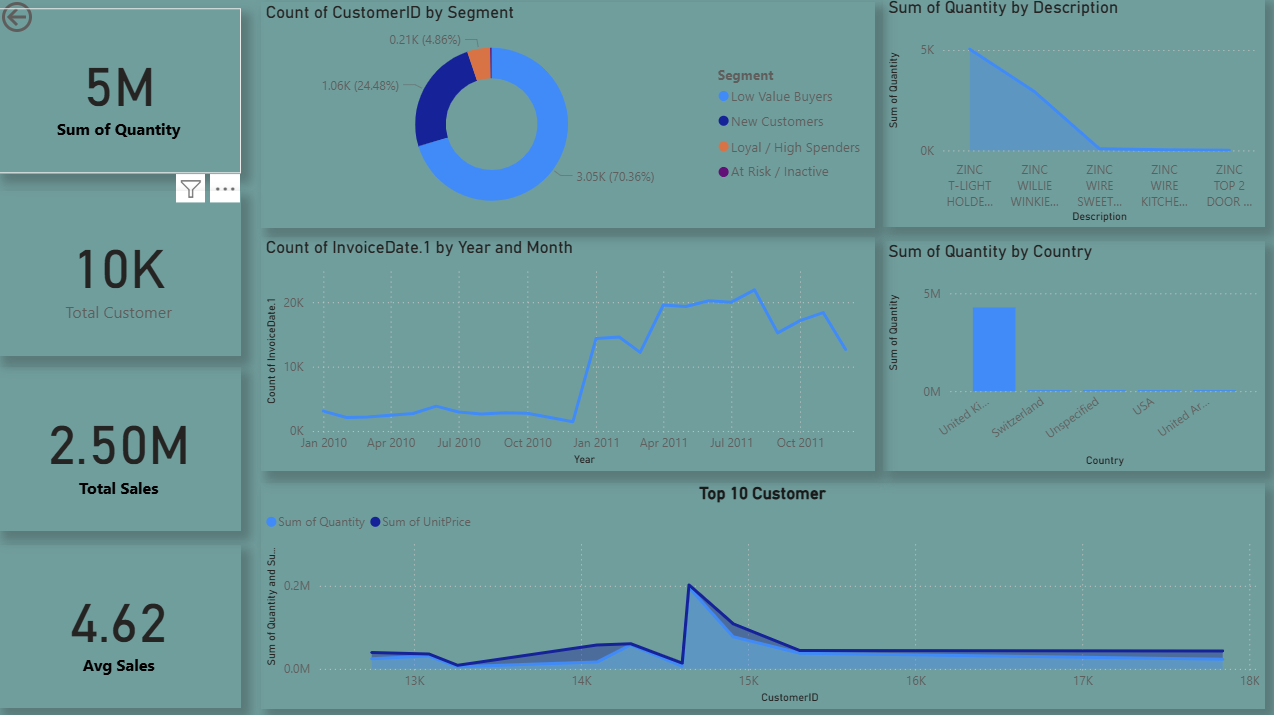

Layout of this report page (visuals, bound fields, positions):
{"tool":"powerbi","page":{"name":"Page 1","canvas":[1280,720],"ordinal":0},"visuals":[{"type":"columnChart","fields":{"Category":["Online Retail.Country"],"Y":["Sum(Online Retail.Quantity)"]},"box":[886.7,243.7,381.2,230.4],"z":0},{"type":"donutChart","fields":{"Category":["Customer_Segments-checkpoint.Segment"],"Y":["CountNonNull(Customer_Segments-checkpoint.CustomerID)"]},"box":[264.2,4.8,614.1,225.6],"z":1000},{"type":"areaChart","fields":{"Category":["Online Retail.Description"],"Y":["Sum(Online Retail.Quantity)"]},"box":[886.7,0,381.2,230.4],"z":2000},{"type":"stackedAreaChart","title":"Top 10 Customer","fields":{"Category":["Customer_Segments-checkpoint.CustomerID"],"Y":["Sum(Online Retail.Quantity)","Sum(Online Retail.UnitPrice)"]},"box":[264.2,486.2,1003.8,225.6],"z":3000},{"type":"card","fields":{"Values":["Customer_Segments-checkpoint.Total Sales"]},"box":[0,370.4,243.7,164.1],"z":4000},{"type":"actionButton","box":[0,0,100,40],"z":5000},{"type":"card","fields":{"Values":["Customer_Segments-checkpoint.Avg Sales"]},"box":[0,547.7,243.7,164.1],"z":6000},{"type":"lineChart","fields":{"Category":["Online Retail.InvoiceDate.1.Variation.Date Hierarchy.Year","Online Retail.InvoiceDate.1.Variation.Date Hierarchy.Month"],"Y":["CountNonNull(Online Retail.InvoiceDate.1)"]},"box":[264.2,240.1,614.1,234],"z":7000},{"type":"card","title":"Total of Quantity","fields":{"Values":["Sum(Online Retail.Quantity)"]},"box":[0,10.9,243.7,165.3],"z":8000},{"type":"card","fields":{"Values":["Customer_Segments-checkpoint.Total customer"]},"box":[0,194.2,243.7,165.3],"z":9000}]}

Visuals, with their boxes in screenshot pixels (x1, y1, x2, y2), scaled from the page's 1280x720 canvas onto the 1274x715 screenshot:
columnChart - Online Retail.Country x Sum(Online Retail.Quantity): box(883, 242, 1262, 471)
donutChart - Customer_Segments-checkpoint.Segment x CountNonNull(Customer_Segments-checkpoint.CustomerID): box(263, 5, 874, 229)
areaChart - Online Retail.Description x Sum(Online Retail.Quantity): box(883, 0, 1262, 229)
"Top 10 Customer" stackedAreaChart: box(263, 483, 1262, 707)
card - Customer_Segments-checkpoint.Total Sales: box(0, 368, 243, 531)
actionButton: box(0, 0, 100, 40)
card - Customer_Segments-checkpoint.Avg Sales: box(0, 544, 243, 707)
lineChart - Online Retail.InvoiceDate.1.Variation.Date Hierarchy.Year x Online Retail.InvoiceDate.1.Variation.Date Hierarchy.Month: box(263, 238, 874, 471)
"Total of Quantity" card: box(0, 11, 243, 175)
card - Customer_Segments-checkpoint.Total customer: box(0, 193, 243, 357)
